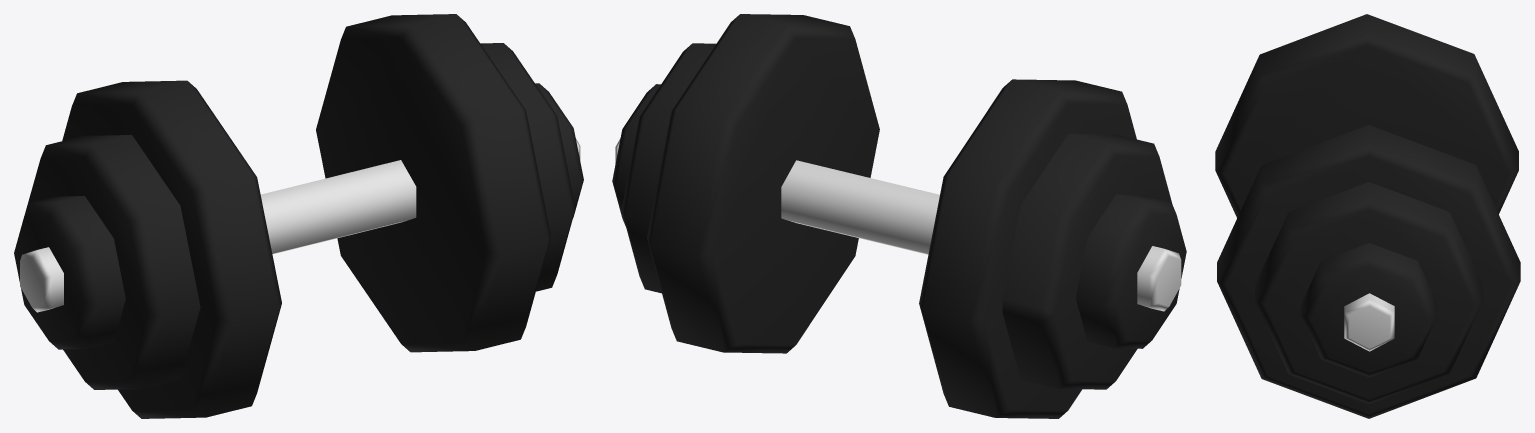
Rendered from training_010.fbx.
3 renders of one model, left to right at view 1: azimuth 30°, elevation 25°; view 2: azimuth 150°, elevation 25°; view 3: azimuth 270°, elevation 25°, orthographic. The views are drawn at different scales.
Parts seen in each view (by area): view 1: training_010; view 2: training_010; view 3: training_010.
Part boxes in pixels (bbox=[...]): training_010: bbox=[14, 14, 583, 418]; training_010: bbox=[612, 14, 1186, 418]; training_010: bbox=[1215, 14, 1520, 418].
Bounding box in the file's own units: 47.8 × 27.92 × 27.75.
